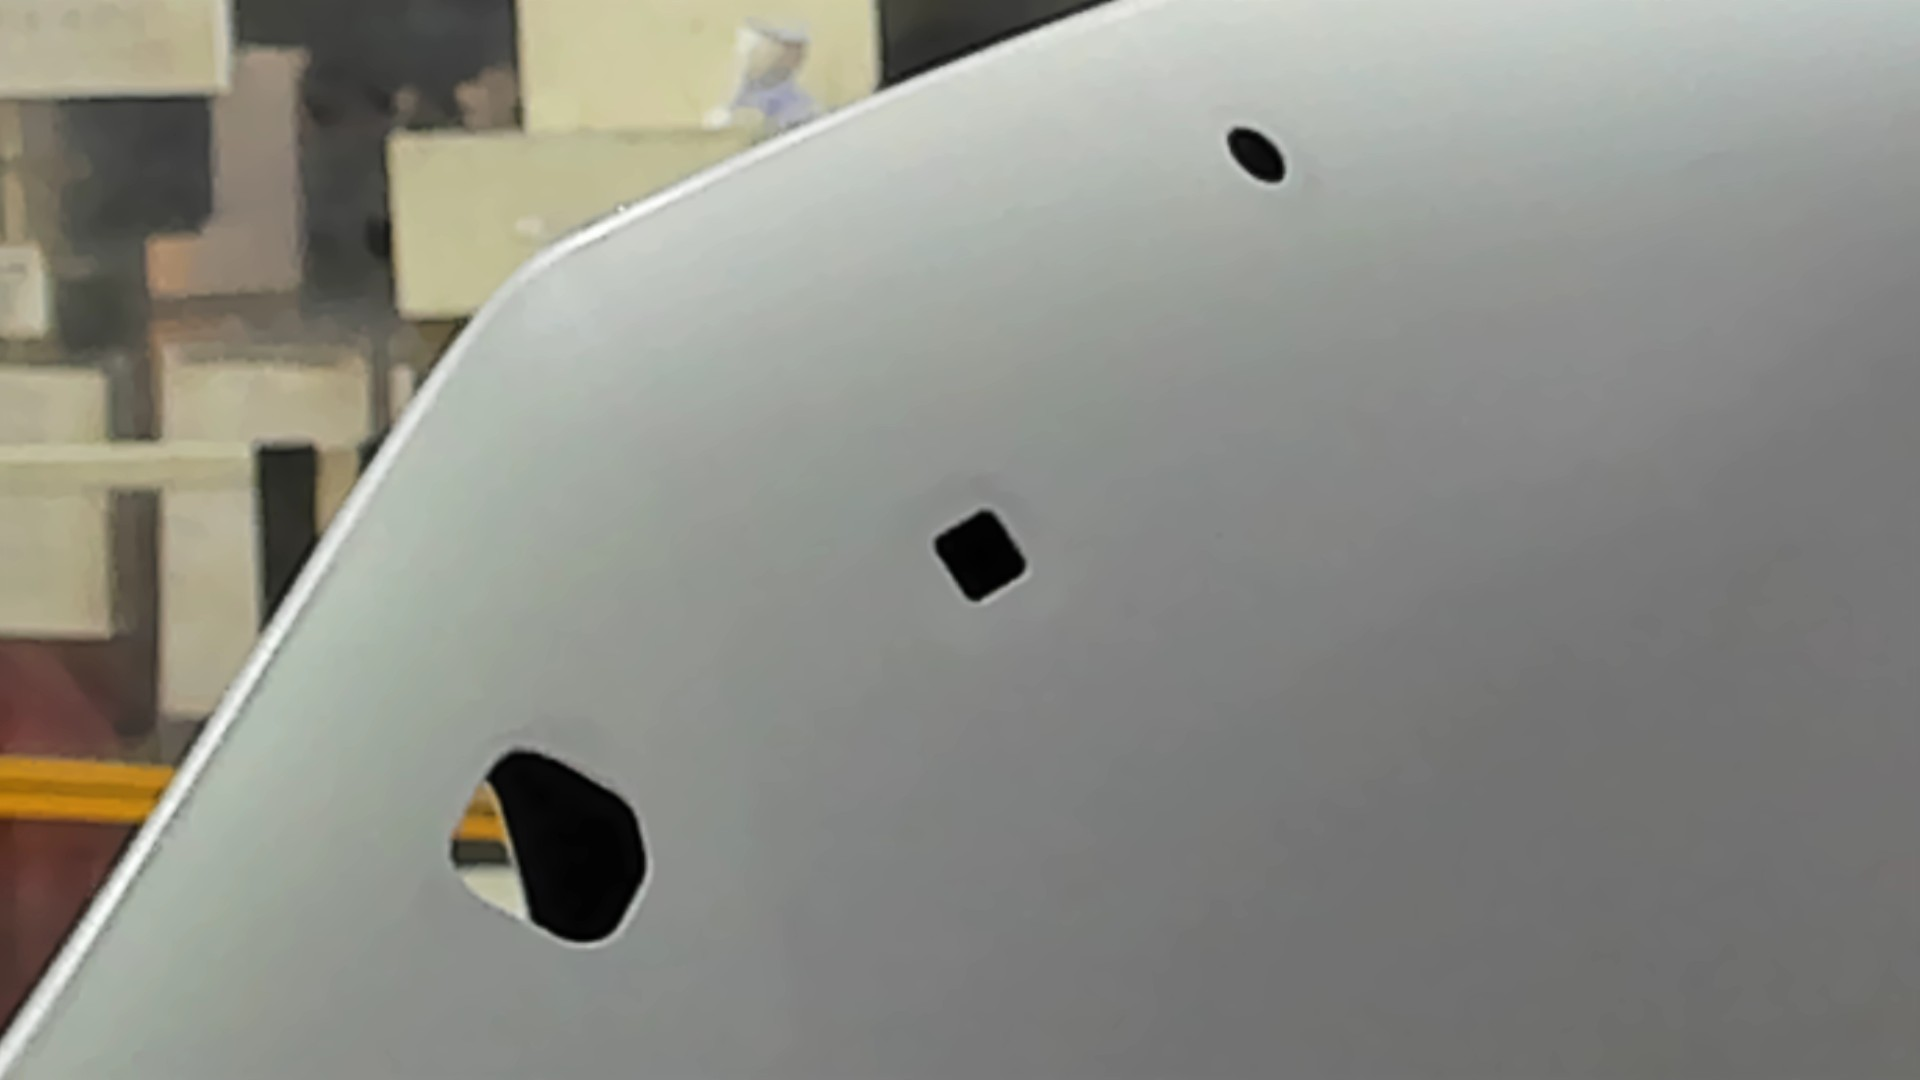capo: (1036, 193, 1920, 1080)
chico: (1220, 119, 1294, 189)
grande: (442, 738, 655, 951)
mediano: (927, 498, 1038, 615)
